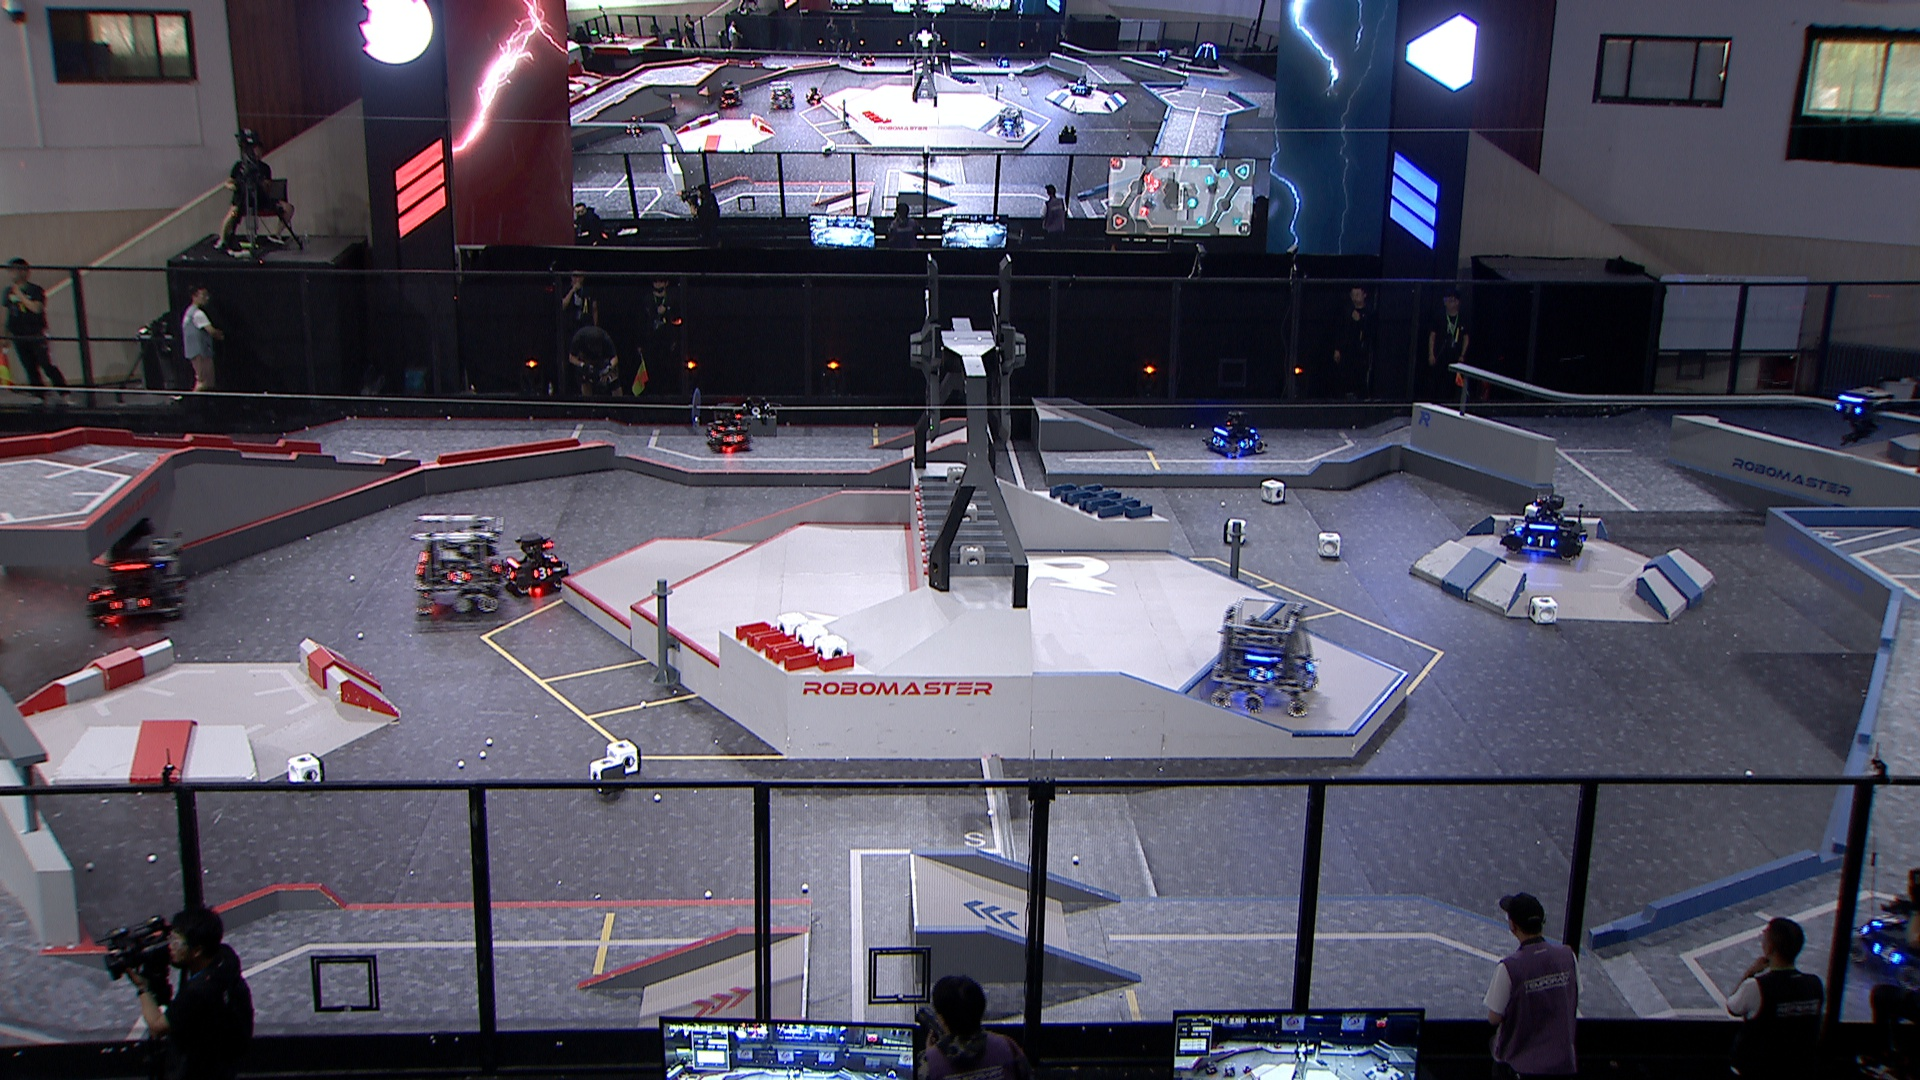armor: (107, 595, 149, 613), (1870, 942, 1904, 963), (1871, 915, 1907, 931), (1524, 534, 1557, 550), (446, 567, 473, 585), (1245, 665, 1273, 680), (1836, 404, 1863, 417), (531, 564, 555, 579), (94, 579, 115, 595), (721, 431, 745, 444), (500, 564, 518, 579), (1238, 436, 1257, 448), (541, 550, 560, 560), (717, 425, 742, 433), (1211, 436, 1226, 448), (1513, 520, 1527, 531)
car: (1211, 593, 1320, 716), (83, 520, 187, 624), (405, 514, 504, 617), (1495, 483, 1590, 560), (1847, 884, 1920, 984), (496, 531, 574, 599), (1205, 406, 1267, 456), (705, 405, 756, 454)
ignore: (1187, 40, 1221, 71), (767, 80, 798, 109), (998, 107, 1025, 138), (716, 82, 744, 109), (624, 112, 647, 138)
watcher: (1832, 385, 1888, 451)
